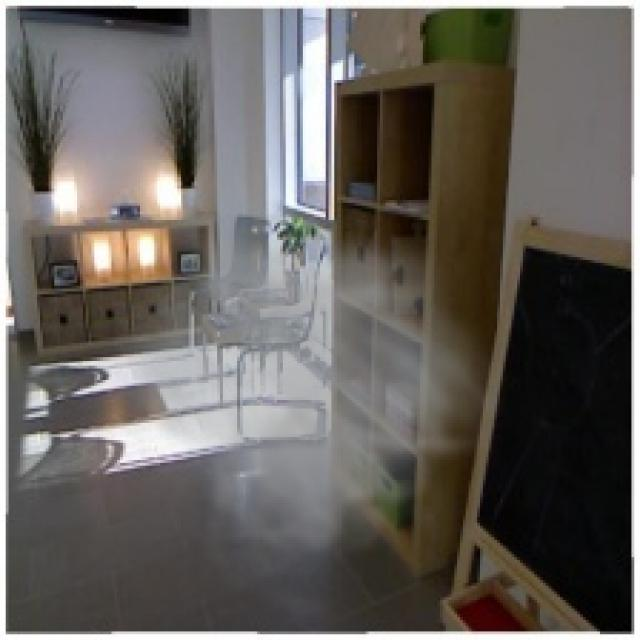smoke: (100, 215, 514, 594)
